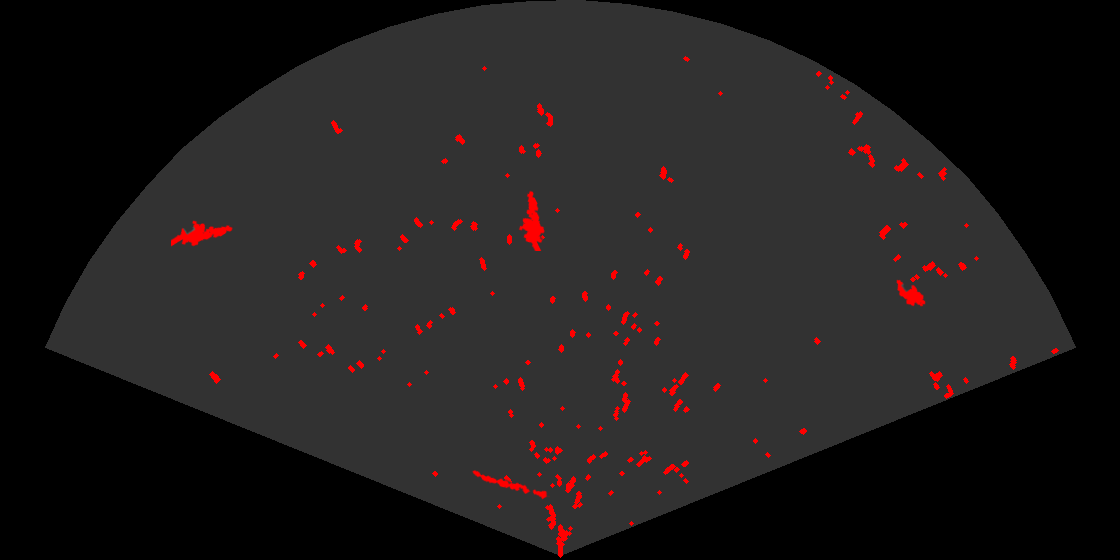AUV: (895, 278, 927, 308)
chain: (470, 469, 550, 501)
frogman: (171, 219, 234, 248), (517, 189, 546, 251)
